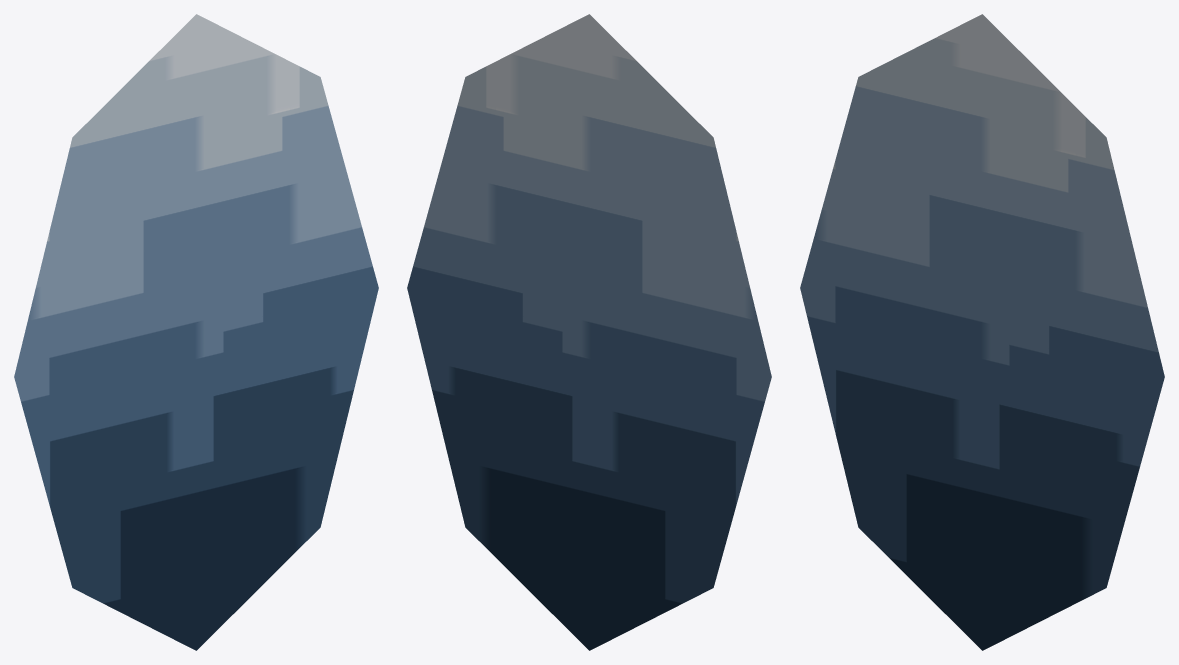
File: Itr_Obj_Frame3_Picture_01.FBX
3 renders of one model, left to right at view 1: azimuth 30°, elevation 25°; view 2: azimuth 150°, elevation 25°; view 3: azimuth 330°, elevation 25°, orthographic.
Visible parts, largest first — view 1: Itr_Obj_Frame3_Picture_01; view 2: Itr_Obj_Frame3_Picture_01; view 3: Itr_Obj_Frame3_Picture_01.
Part boxes in pixels (box(x1,y1,x2,y2)): Itr_Obj_Frame3_Picture_01: box(14, 14, 378, 650); Itr_Obj_Frame3_Picture_01: box(407, 14, 771, 650); Itr_Obj_Frame3_Picture_01: box(800, 14, 1164, 650).
Bounding box in the file's own units: 28.8 × 48.05 × 8.11e-06.
